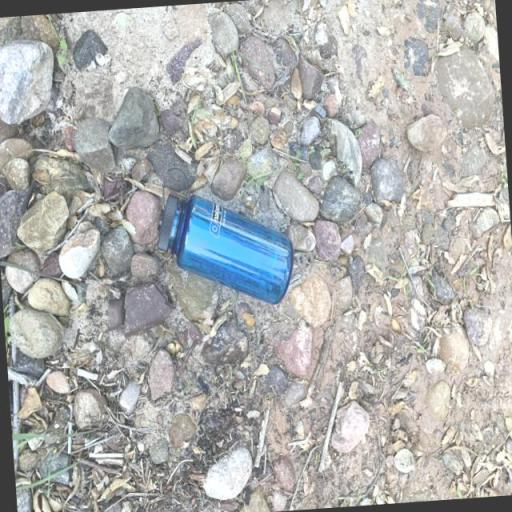bottle: (151, 159, 297, 312)
